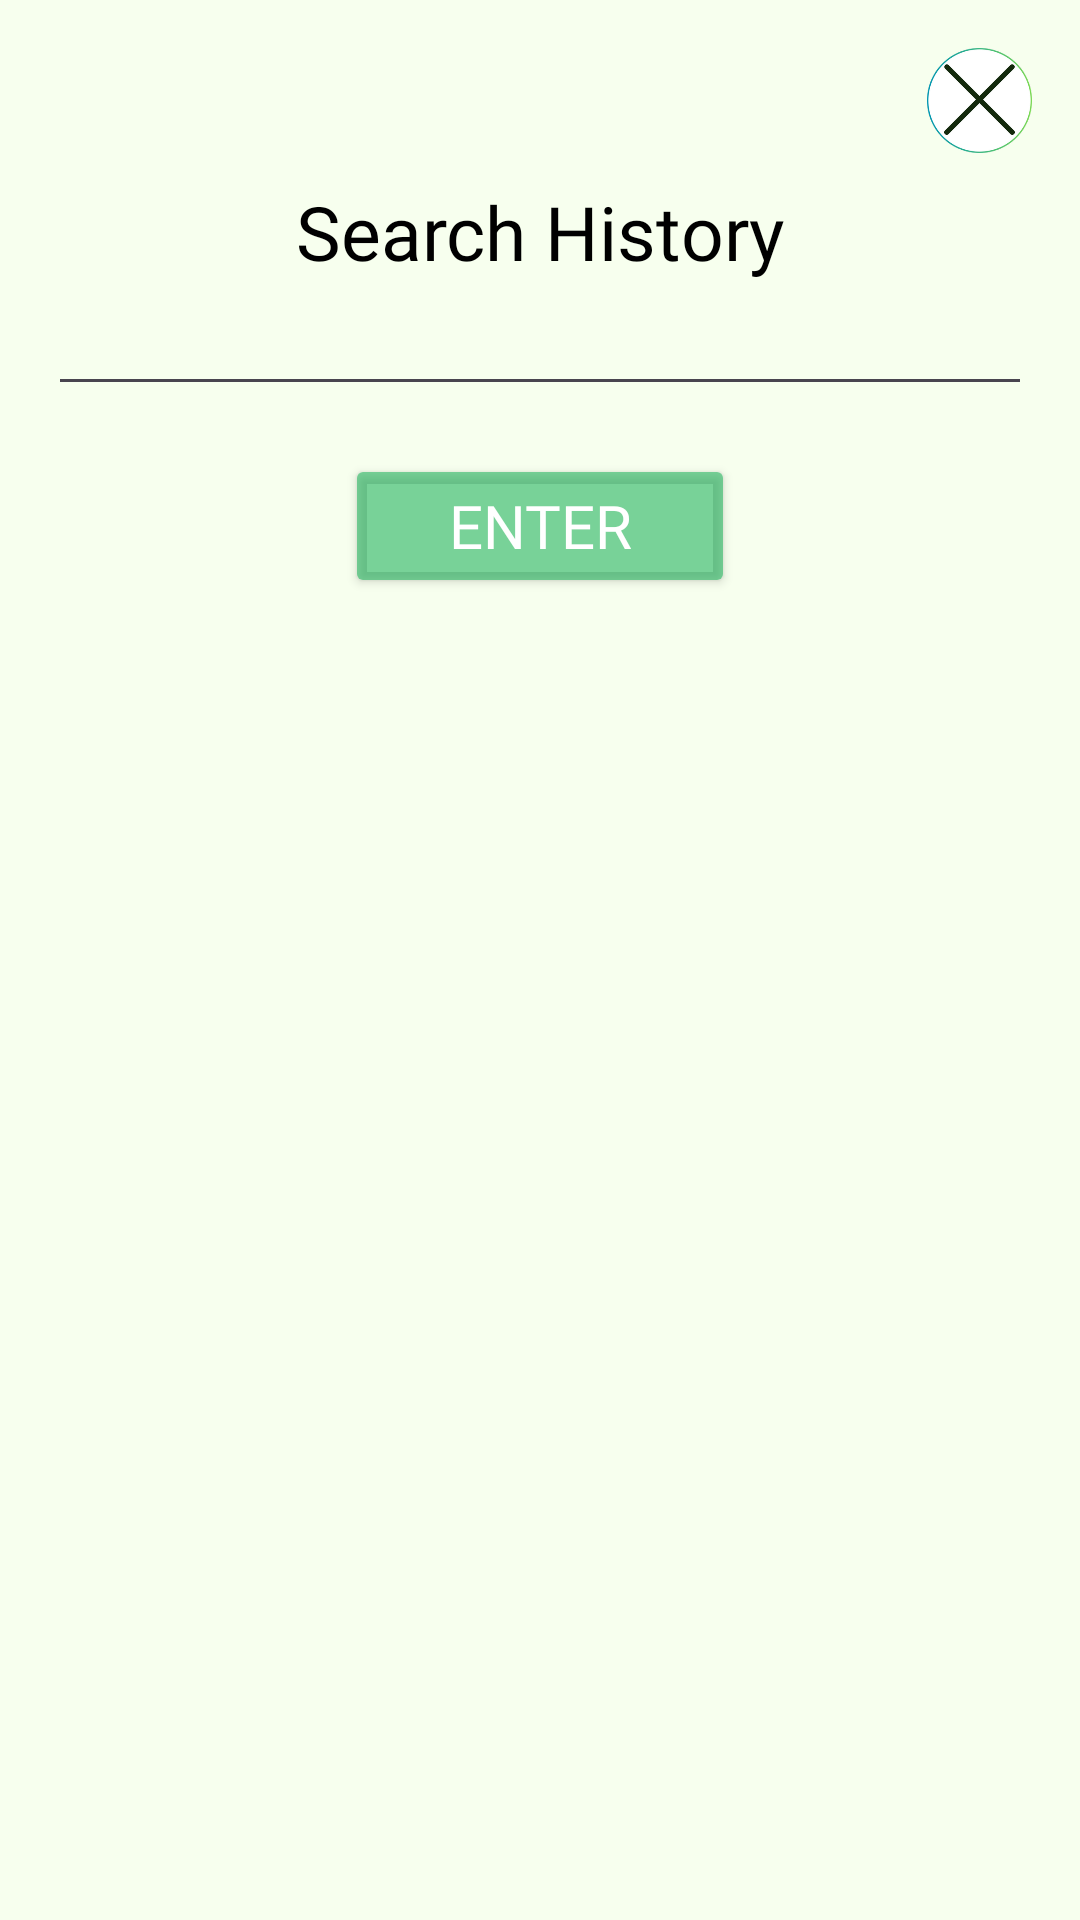

Icon click points for this 1080 x 1920 phone screenshot, format [x,y]:
exit: [979,100]
